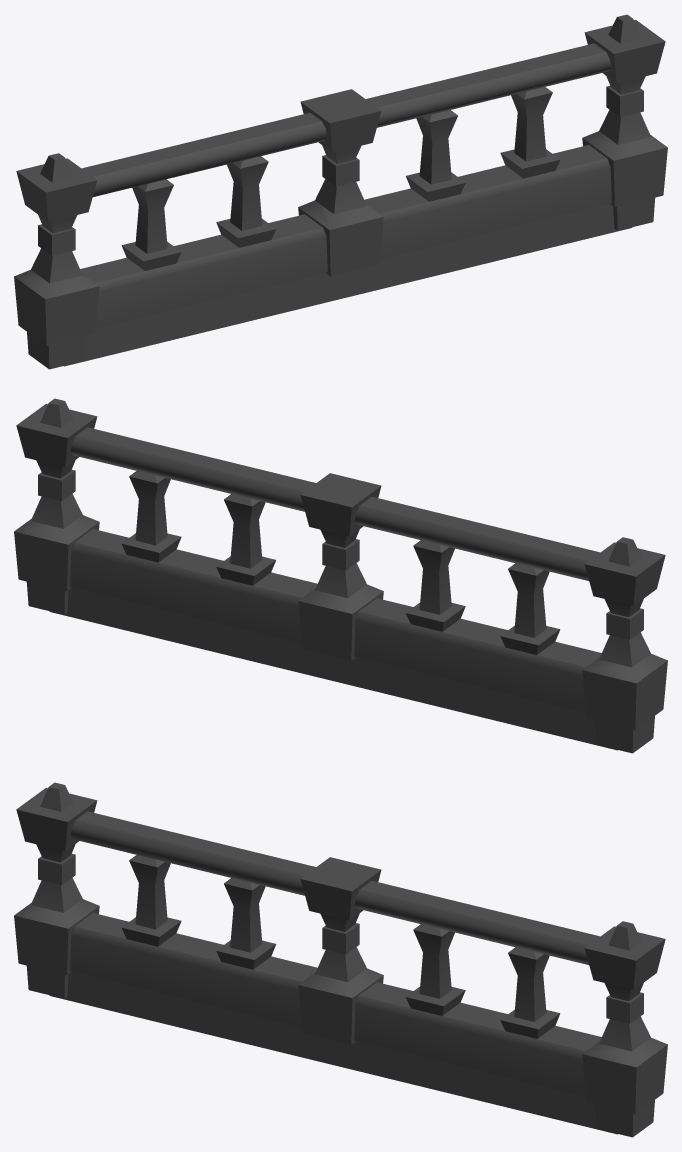
File: Railing_02_2Pillars.fbx
3 renders of one model, top to bottom at view 1: azimuth 30°, elevation 25°; view 2: azimuth 150°, elevation 25°; view 3: azimuth 330°, elevation 25°, orthographic.
Parts seen in each view (by area): view 1: Railing_Short_2Pillars; view 2: Railing_Short_2Pillars; view 3: Railing_Short_2Pillars.
Part boxes in pixels (x1=…): Railing_Short_2Pillars: x1=14, y1=14, x2=667, y2=369; Railing_Short_2Pillars: x1=14, y1=398, x2=667, y2=753; Railing_Short_2Pillars: x1=14, y1=782, x2=667, y2=1137.
Bounding box in the file's own units: 438 × 138 × 38.26.
